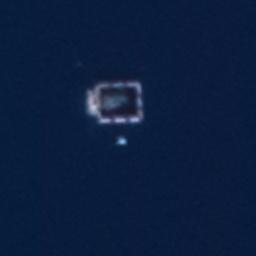square_solid: (88, 76, 151, 130)
